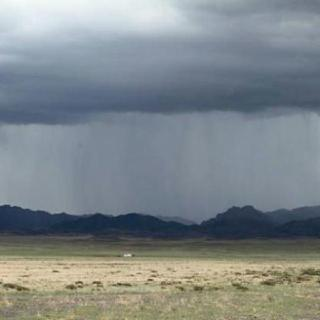Nimbostratus: (0, 0, 320, 132)
